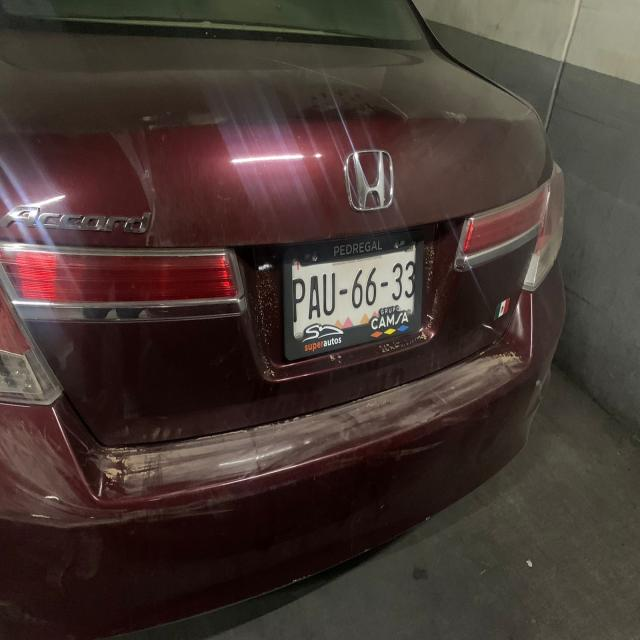placa: (287, 254, 427, 316)
